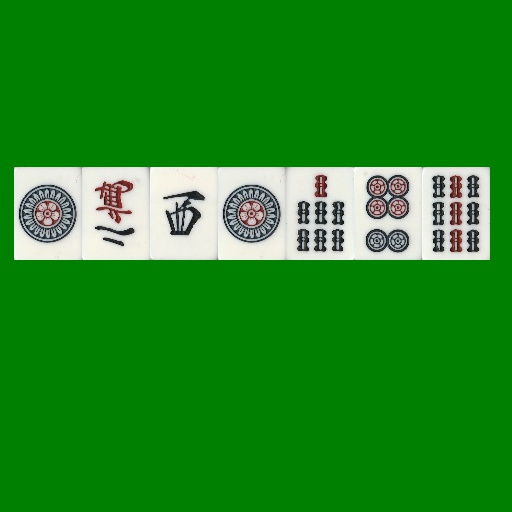1p: (14, 167, 82, 260), (218, 167, 286, 260)
2m: (82, 167, 150, 260)
6p: (354, 167, 422, 260)
7s: (286, 167, 354, 260)
9s: (422, 167, 490, 260)
west: (150, 167, 218, 260)
